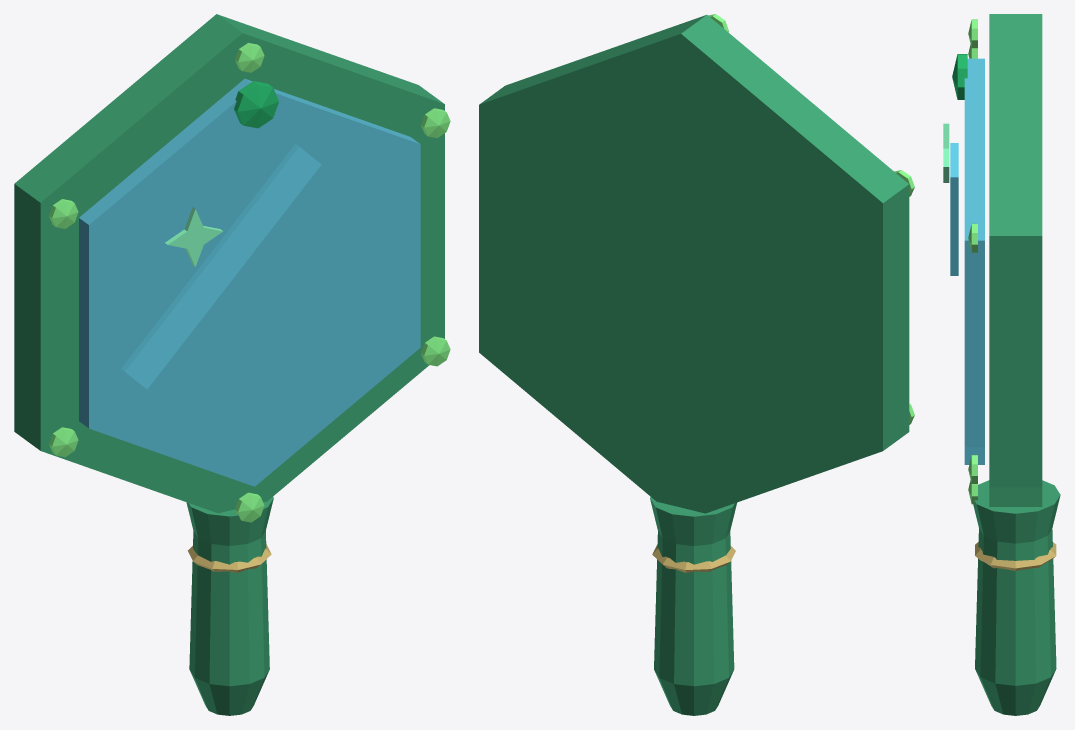
The model's file is jade_hex.obj.
3 views of the same model, side by side, from view 1: azimuth 30°, elevation 25°; view 2: azimuth 150°, elevation 25°; view 3: azimuth 270°, elevation 25° (orthographic).
Parts seen in each view (by area): view 1: jade_hex_glass, jade_hex_back, jade_hex_back_edge, legacy_handle, legacy_glint_broad, jade_hex_glass_edge, legacy_mirror_gem, legacy_glint_broad_edge, legacy_mirror_glint, legacy_handle_ring; view 2: jade_hex_back, jade_hex_back_edge, legacy_handle, legacy_handle_ring; view 3: jade_hex_back_edge, legacy_handle, jade_hex_glass_edge, legacy_glint_broad_edge, legacy_handle_ring, legacy_mirror_gem, legacy_mirror_glint_edge, hex_edge_0, hex_edge_1, hex_edge_2.
Boxes of the visible parts, <box> form: jade_hex_glass: <box>89,93,420,486</box>; jade_hex_back: <box>40,33,444,513</box>; jade_hex_back_edge: <box>14,14,443,450</box>; legacy_handle: <box>186,497,273,715</box>; legacy_glint_broad: <box>125,147,321,389</box>; jade_hex_glass_edge: <box>79,78,419,428</box>; legacy_mirror_gem: <box>234,81,278,128</box>; legacy_glint_broad_edge: <box>121,144,299,387</box>; legacy_mirror_glint: <box>168,209,222,266</box>; legacy_handle_ring: <box>187,544,271,572</box>; jade_hex_back: <box>479,34,882,513</box>; jade_hex_back_edge: <box>480,15,909,450</box>; legacy_handle: <box>650,497,737,715</box>; legacy_handle_ring: <box>652,544,735,572</box>; jade_hex_back_edge: <box>989,14,1042,506</box>; legacy_handle: <box>973,480,1060,715</box>; jade_hex_glass_edge: <box>964,58,984,464</box>; legacy_glint_broad_edge: <box>950,143,958,275</box>; legacy_handle_ring: <box>975,542,1056,570</box>; legacy_mirror_gem: <box>952,54,967,99</box>; legacy_mirror_glint_edge: <box>943,123,949,182</box>; hex_edge_0: <box>968,19,977,48</box>; hex_edge_1: <box>968,223,977,252</box>; hex_edge_2: <box>968,455,977,483</box>.
Bounding box in the file's own units: 1.16 × 1.87 × 0.2872.
